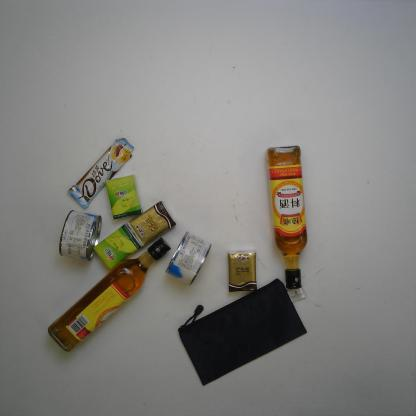Canned Food: (164, 230, 212, 288), (58, 209, 102, 263)
Chocolate: (67, 137, 135, 210)
Seasoner: (46, 236, 172, 353), (265, 144, 308, 290)
Stationery: (177, 277, 308, 388)
Tissue: (92, 222, 145, 272), (128, 199, 177, 246), (104, 174, 144, 222), (227, 248, 258, 294)
